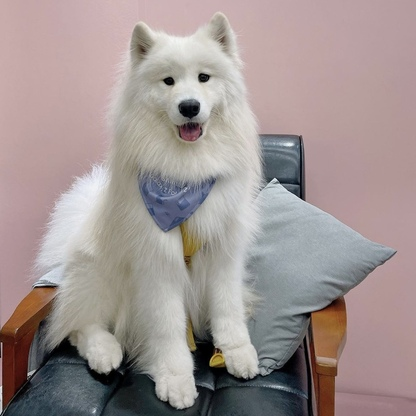samoyed: (35, 8, 265, 414)
